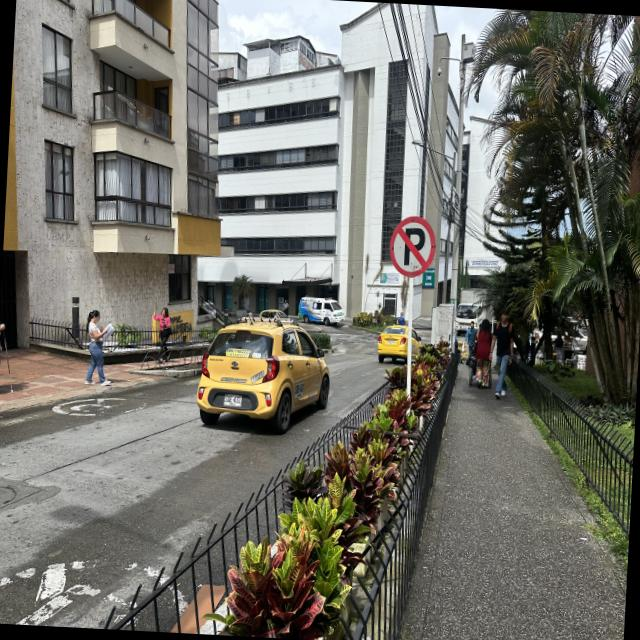number plate: (224, 394, 242, 407)
